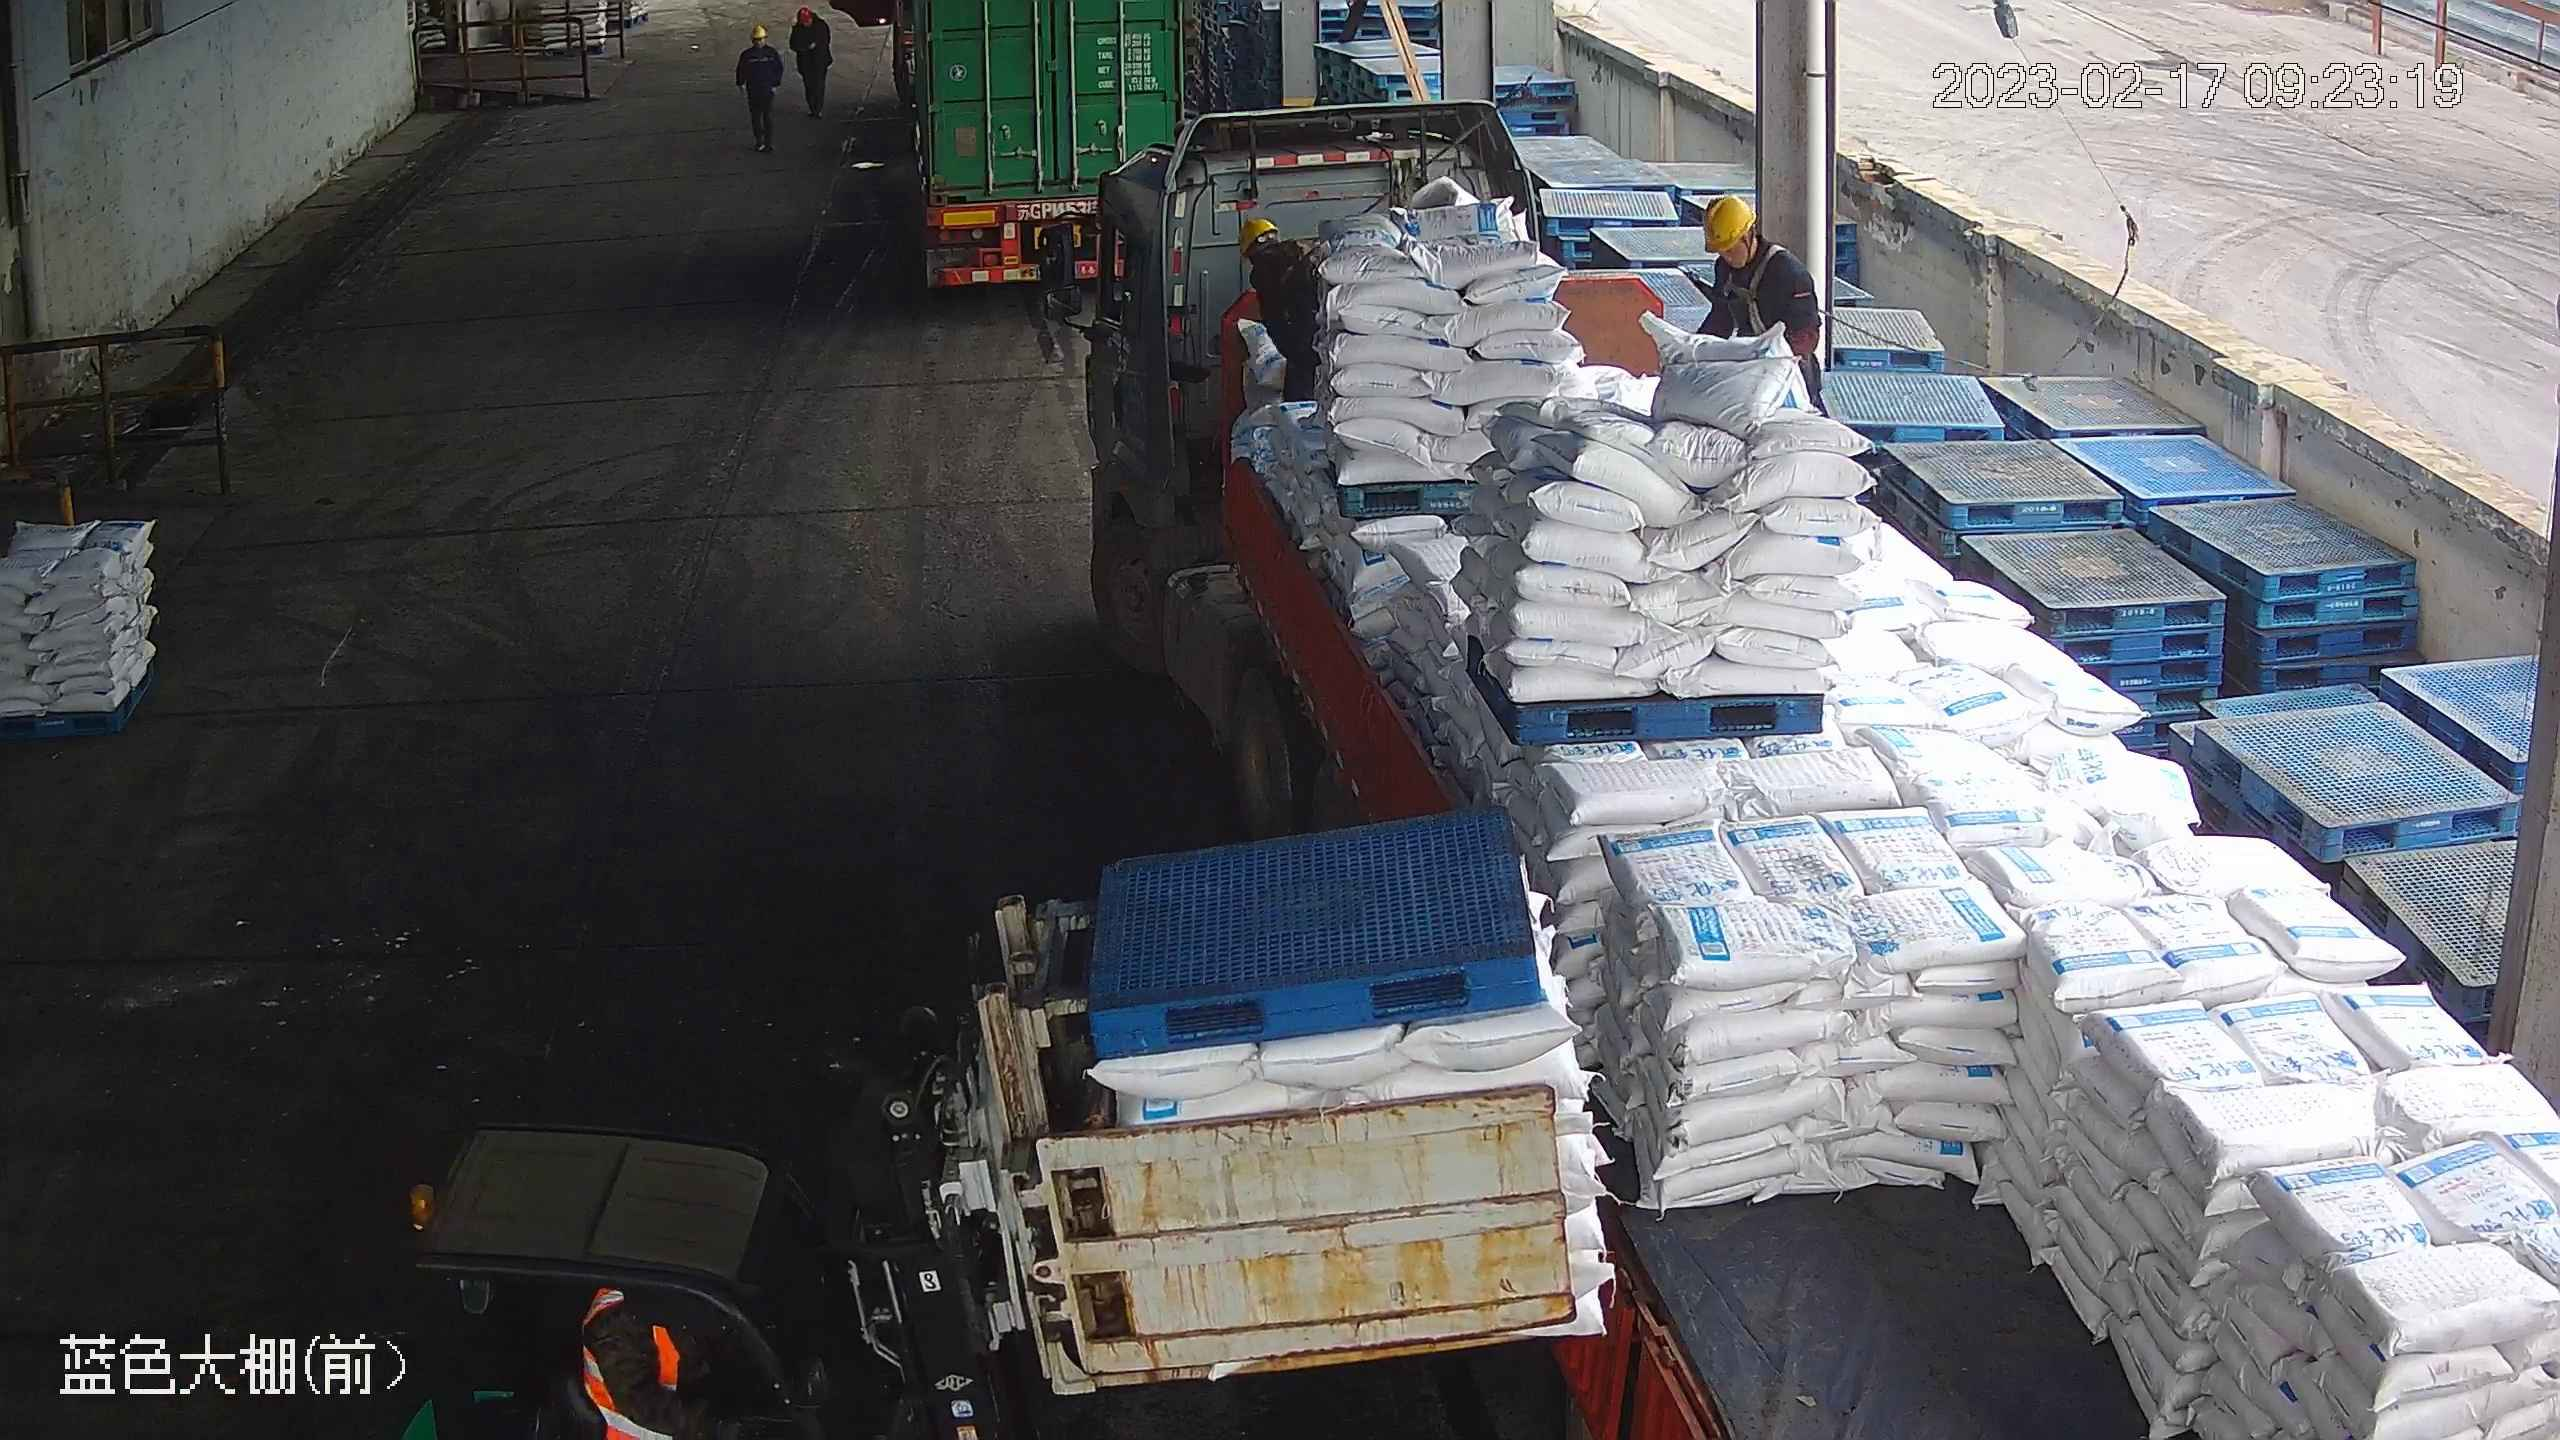belt: (1729, 252, 1783, 316)
head: (1702, 195, 1804, 294), (1237, 211, 1311, 272), (739, 23, 778, 56), (793, 5, 823, 30)
helmet: (1698, 194, 1757, 247), (1236, 211, 1277, 247)
people: (1232, 210, 1346, 410), (733, 22, 783, 150), (791, 5, 836, 114)
truck: (1018, 92, 2557, 1440), (886, 1, 1178, 291)
